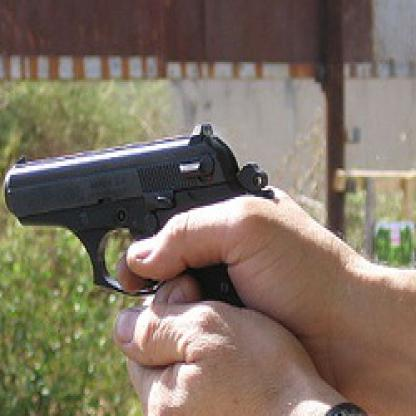gun: (3, 124, 278, 314)
